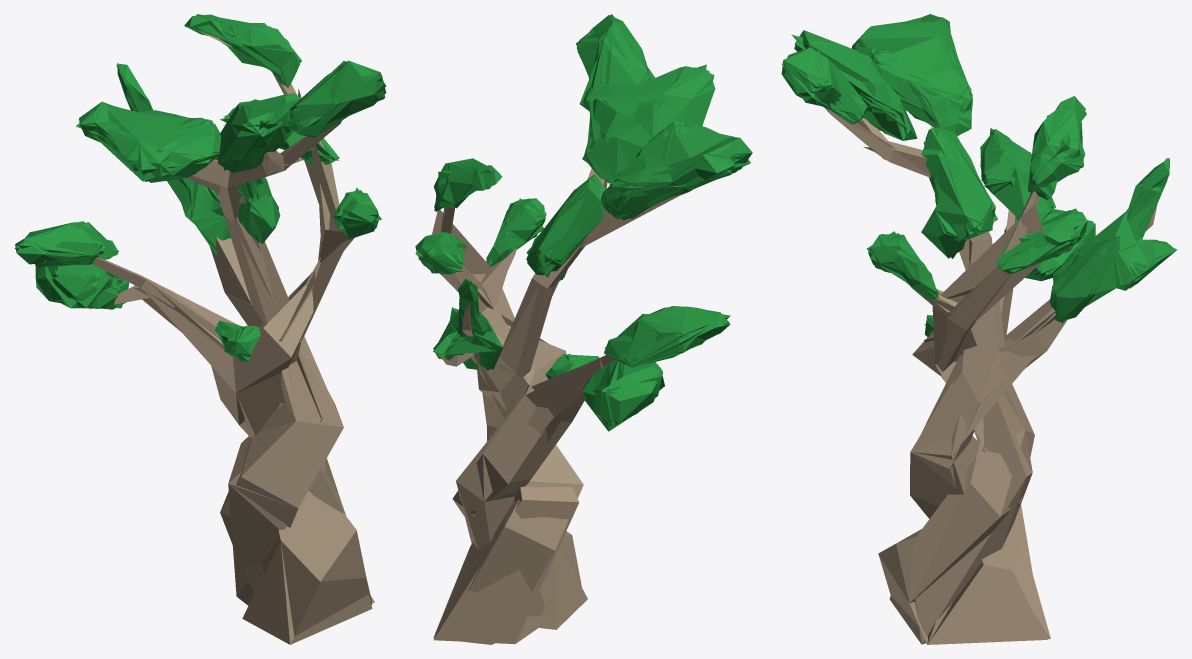
The model's file is olive_tree_LOD.fbx.
3 renders of one model, left to right at view 1: azimuth 30°, elevation 25°; view 2: azimuth 150°, elevation 25°; view 3: azimuth 270°, elevation 25°, orthographic. The views are drawn at different scales.
Visible parts, largest first — view 1: olive_tree0, olive_tree2, olive_tree4, olive_tree3, olive_tree1; view 2: olive_tree0, olive_tree2, olive_tree4, olive_tree3, olive_tree1; view 3: olive_tree0, olive_tree4, olive_tree2, olive_tree3, olive_tree1.
Part boxes in pixels (<box>): olive_tree0: <box>15,14,386,636</box>; olive_tree2: <box>14,23,385,592</box>; olive_tree4: <box>40,23,386,644</box>; olive_tree3: <box>19,14,384,634</box>; olive_tree1: <box>30,17,385,362</box>; olive_tree0: <box>415,15,749,637</box>; olive_tree2: <box>418,14,752,644</box>; olive_tree4: <box>415,28,750,644</box>; olive_tree3: <box>416,28,752,628</box>; olive_tree1: <box>416,23,750,423</box>; olive_tree0: <box>781,14,1176,644</box>; olive_tree4: <box>782,34,1141,644</box>; olive_tree2: <box>781,15,1169,643</box>; olive_tree3: <box>781,21,1176,641</box>; olive_tree1: <box>782,14,1175,360</box>.
Bounding box in the file's own units: 238 × 427 × 273.
